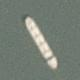ship: (0, 0, 21, 29)
